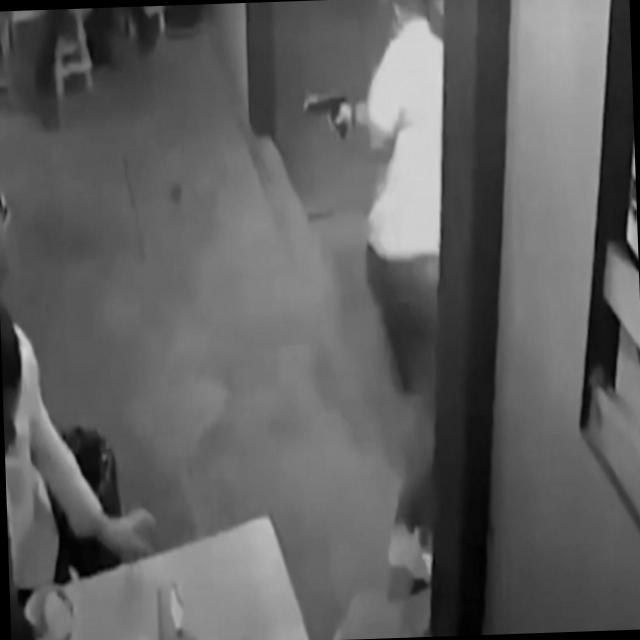gun: (304, 89, 351, 140)
person with a gun: (300, 0, 465, 601)
